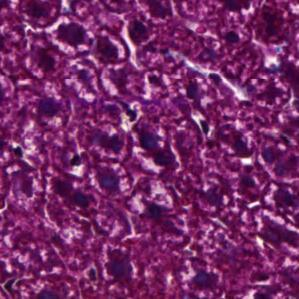inflammation: (100, 89, 151, 132), (48, 15, 93, 60), (215, 121, 254, 166), (89, 29, 136, 66), (89, 157, 131, 197)
